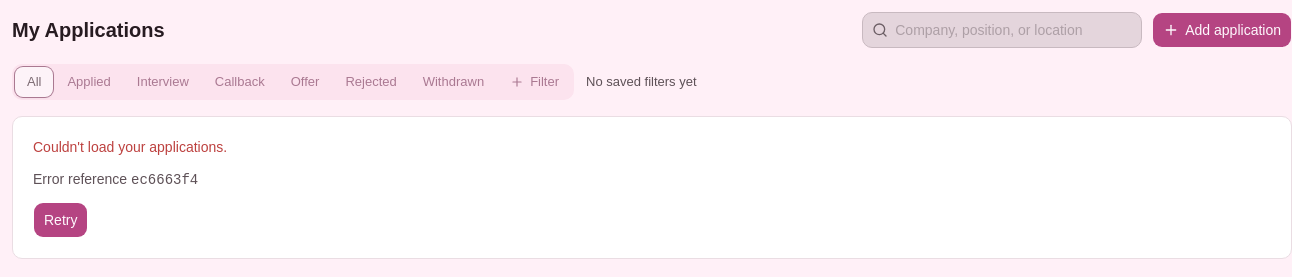
it: ApplicationsScreen › says the list failed, with a reference and never the raw message, and Retry recovers
Expected: the message shows "Couldn't load your applications.", [33,139,227,155]
Expected: the message reads "Couldn't load your applications. Error reference ec6663f4 Retry", [33,139,227,238]
Click the button "Retry". click: (61, 220)
box: [33,202,88,238]
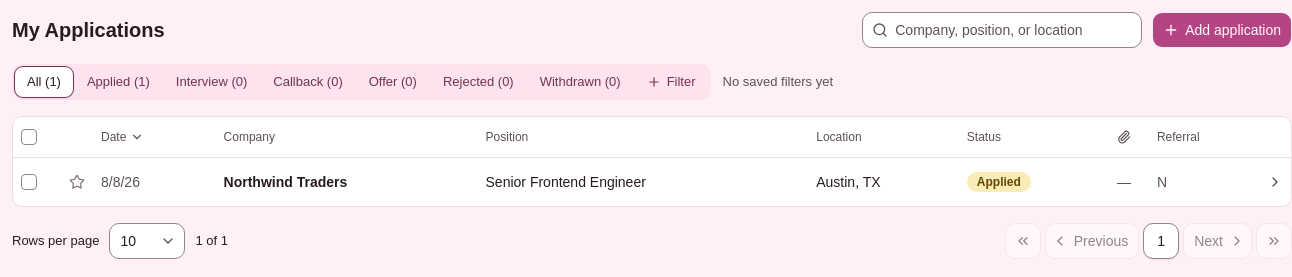
Expected: the link "Northwind Traders" is shown, [224,174,347,190]
